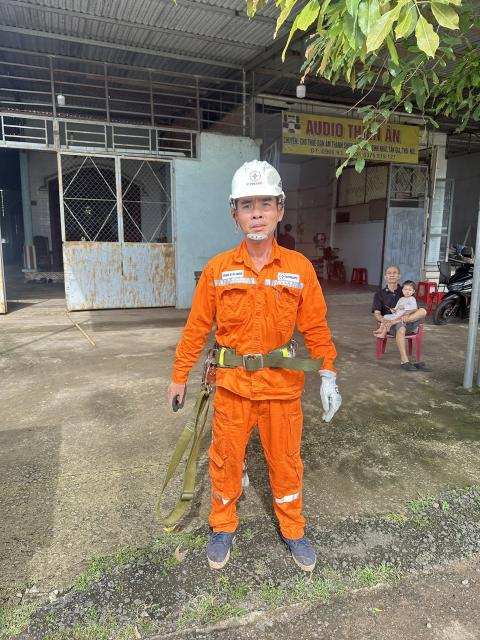gloves: (156, 368, 193, 424), (309, 371, 345, 423)
harness: (188, 326, 318, 384)
helmet: (221, 151, 293, 208)
shoes: (195, 518, 243, 579), (276, 526, 329, 579)
